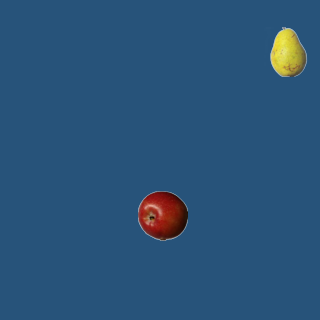Apple Braeburn: (137, 190, 187, 240)
Pear Monster: (263, 26, 313, 76)
